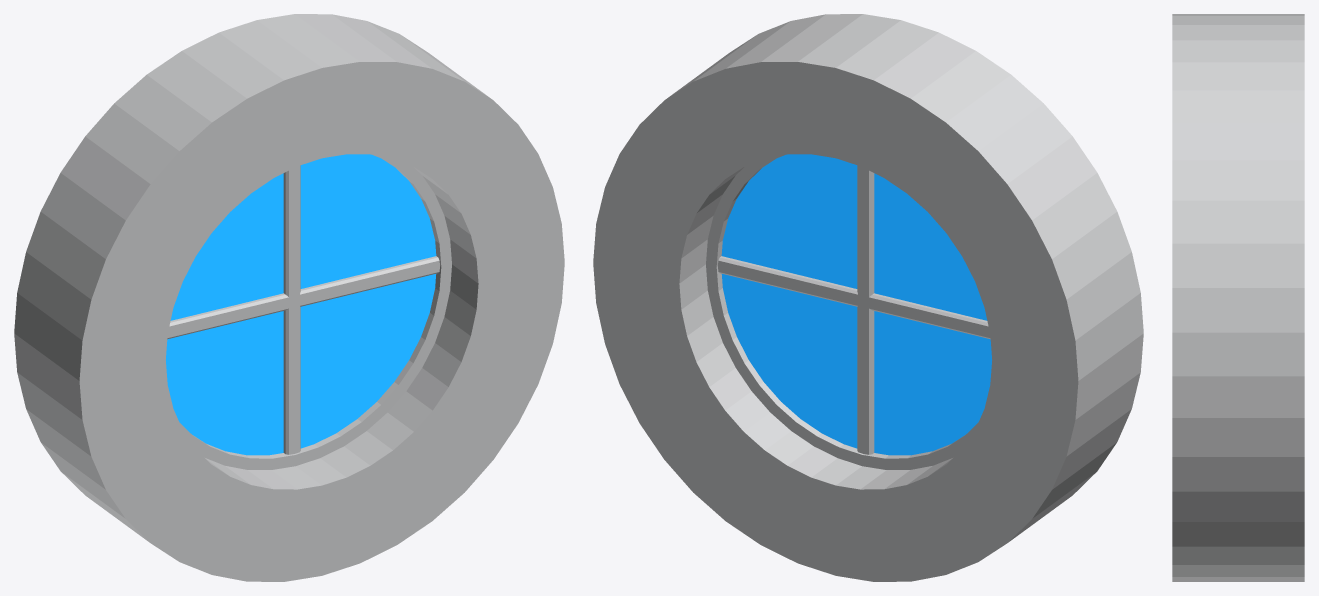
Rendered from janela_oculo_branca.glb.
The picture shows the model from 3 angles, left to right: view 1: azimuth 30°, elevation 25°; view 2: azimuth 150°, elevation 25°; view 3: azimuth 270°, elevation 25°; orthographic projection.
Visible parts, largest first — view 1: janela_oculo_branca; view 2: janela_oculo_branca; view 3: janela_oculo_branca.
Boxes of the visible parts, x1,y1,x2,y2 form: janela_oculo_branca: (14,14,564,581); janela_oculo_branca: (593,14,1143,581); janela_oculo_branca: (1172,14,1304,581).
Bounding box in the file's own units: 0.9 × 0.9 × 0.21.
